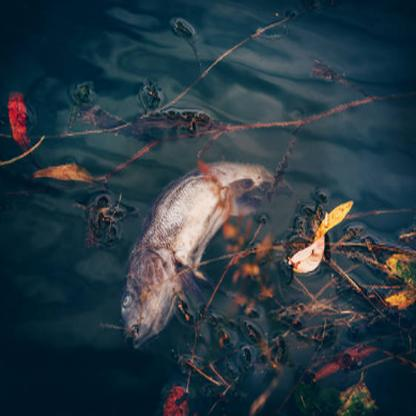deceased fish: (113, 159, 276, 348)
